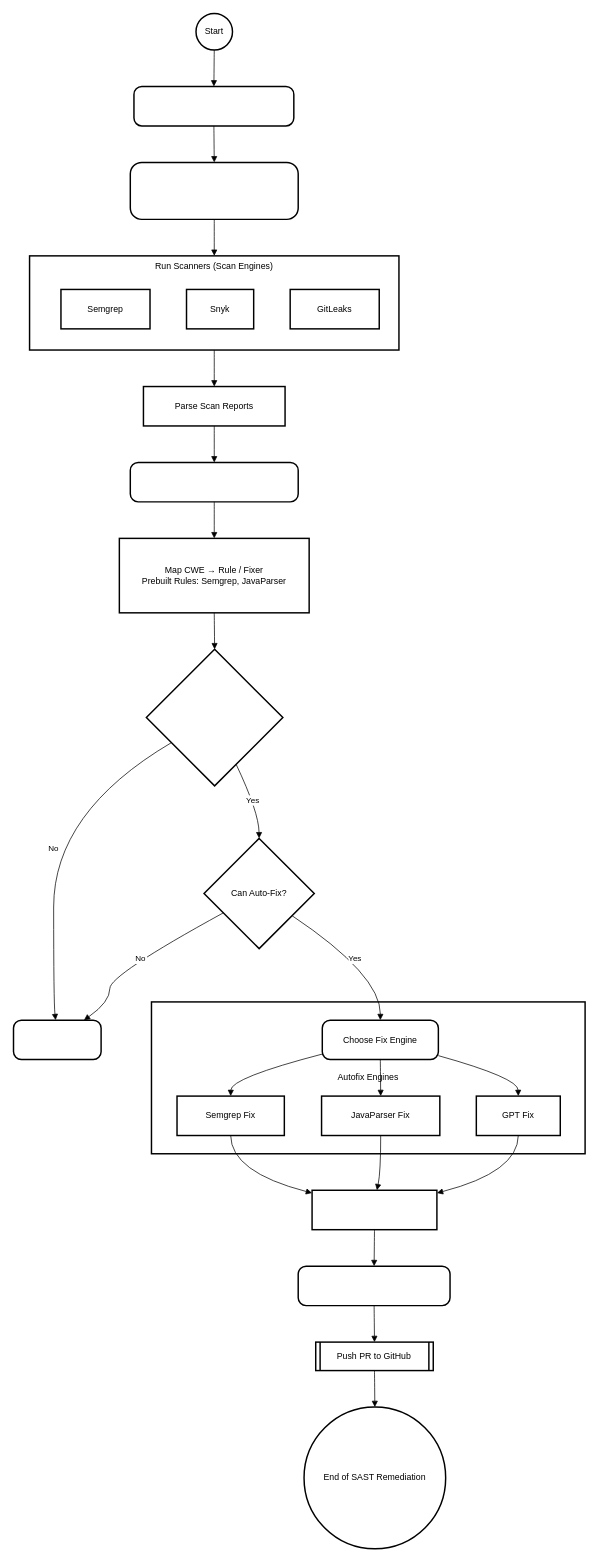
Image size: 598x1561. Some labels were removed from this diagram. Each missing label, with the centre of its shape:
"Create Branch & Commit" belongs at [373,1285].
"Generate Patch" belongs at [374,1209].
"Log and Skip" belongs at [56,1039].
"Prepare Source Git Clone" belongs at [213,105].
"Read CVE Map CVE → CWE" belongs at [214,481].
"Rule Match Found?" belongs at [214,717].
"Scan Engine Tool Orchestration" belongs at [214,190].
